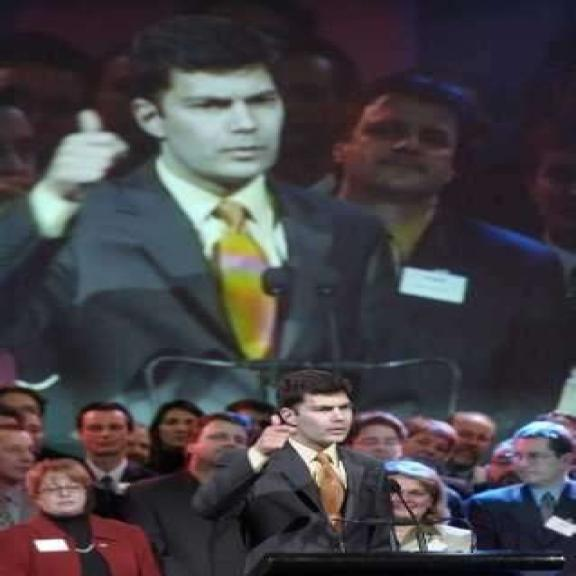face: (128, 64, 288, 182), (332, 90, 456, 199), (517, 137, 576, 233), (280, 392, 352, 446), (507, 434, 575, 488), (77, 408, 135, 456), (186, 420, 245, 467), (383, 473, 438, 522), (30, 470, 88, 516), (448, 413, 491, 469), (404, 425, 454, 471), (354, 418, 403, 462), (154, 406, 201, 446), (3, 431, 36, 483)
